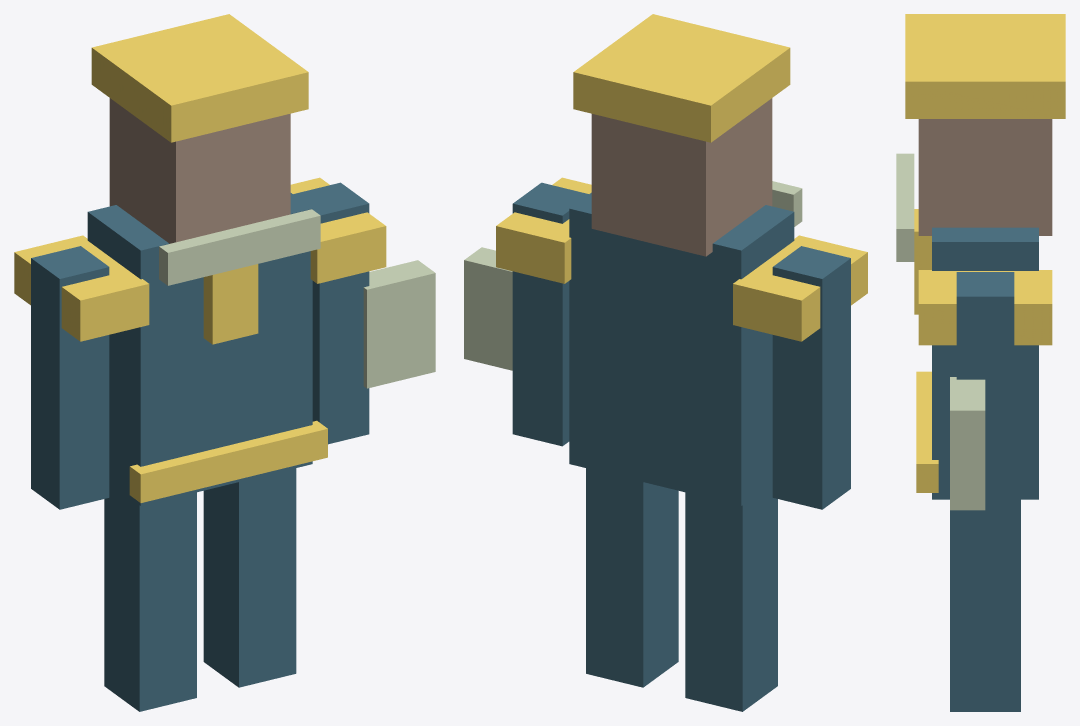
File: 07_bex_nullborne_specialist_at_ballast.glb
3 renders of one model, left to right at view 1: azimuth 30°, elevation 25°; view 2: azimuth 150°, elevation 25°; view 3: azimuth 270°, elevation 25°, orthographic.
Parts seen in each view (by area): view 1: Bex Nullborne, Specialist at Ballast; view 2: Bex Nullborne, Specialist at Ballast; view 3: Bex Nullborne, Specialist at Ballast.
Part boxes in pixels (x1,y1,x2,y2): Bex Nullborne, Specialist at Ballast: (14,14,435,711); Bex Nullborne, Specialist at Ballast: (464,14,867,711); Bex Nullborne, Specialist at Ballast: (896,14,1065,711).
Bounding box in the file's own units: 0.9665 × 1.54 × 0.3767.
